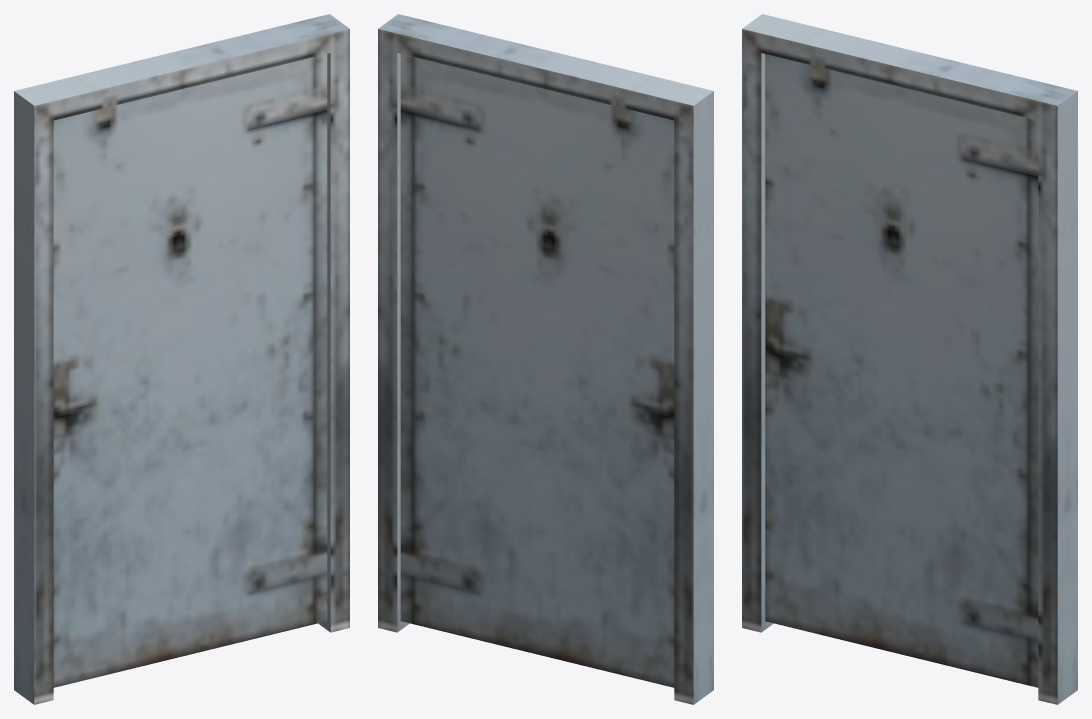
The model's file is DOOR.fbx.
3 views of the same model, side by side, from view 1: azimuth 30°, elevation 25°; view 2: azimuth 150°, elevation 25°; view 3: azimuth 330°, elevation 25° (orthographic).
Visible parts, largest first — view 1: Cube.002, Cube.003; view 2: Cube.002, Cube.003; view 3: Cube.002, Cube.003.
Boxes of the visible parts, left/top/right/bottom form: Cube.002: left=53, top=54, right=327, bottom=687; Cube.003: left=14, top=14, right=349, bottom=704; Cube.002: left=400, top=54, right=674, bottom=687; Cube.003: left=378, top=14, right=713, bottom=704; Cube.002: left=765, top=54, right=1038, bottom=687; Cube.003: left=742, top=14, right=1077, bottom=704.
Bounding box in the file's own units: 235 × 427 × 26.21.
